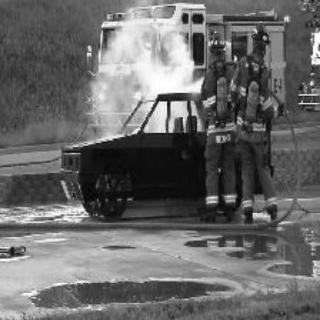Smoke: (124, 29, 206, 127)
